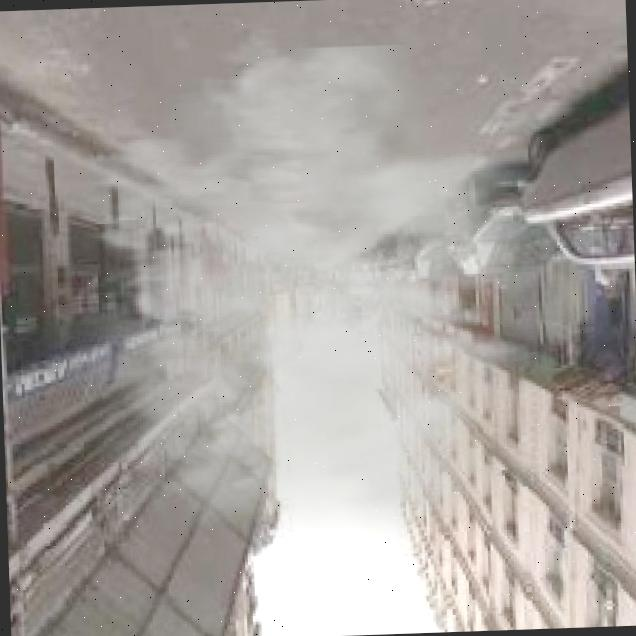smoke: (33, 39, 567, 571)
